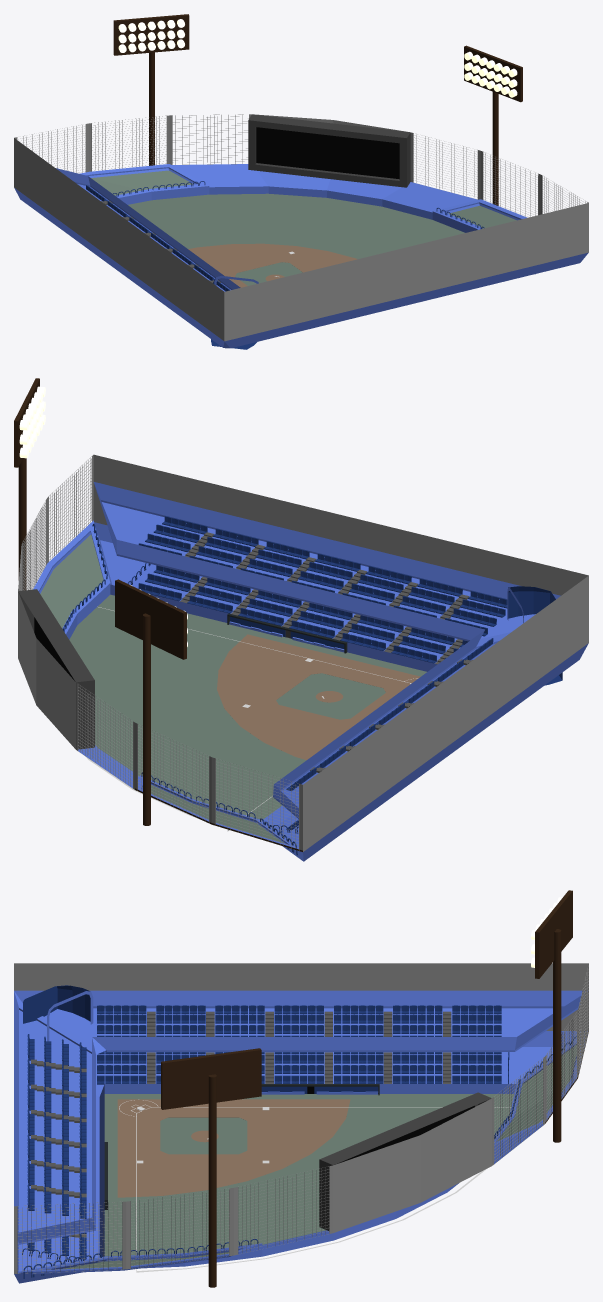
File: Venue.fbx
3 views of the same model, one above another, from view 1: azimuth 30°, elevation 25°; view 2: azimuth 150°, elevation 25°; view 3: azimuth 270°, elevation 25° (orthographic). The views are drawn at different scales.
Visible parts, largest first — view 1: field; view 2: field; view 3: field.
Boxes of the visible parts, bbox=[...] form: field: bbox=[14, 14, 588, 349]; field: bbox=[14, 378, 588, 861]; field: bbox=[14, 890, 588, 1287].
Size of the model in its own units: 11.02 by 4.9 by 11.02.
